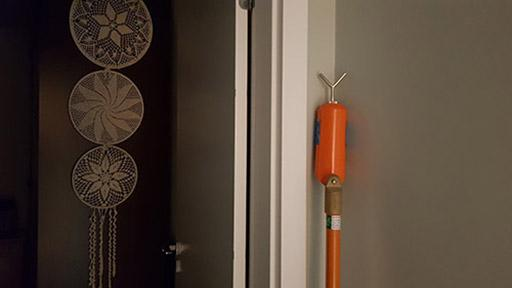Detector_Tensao_Contato: (313, 70, 348, 193)
